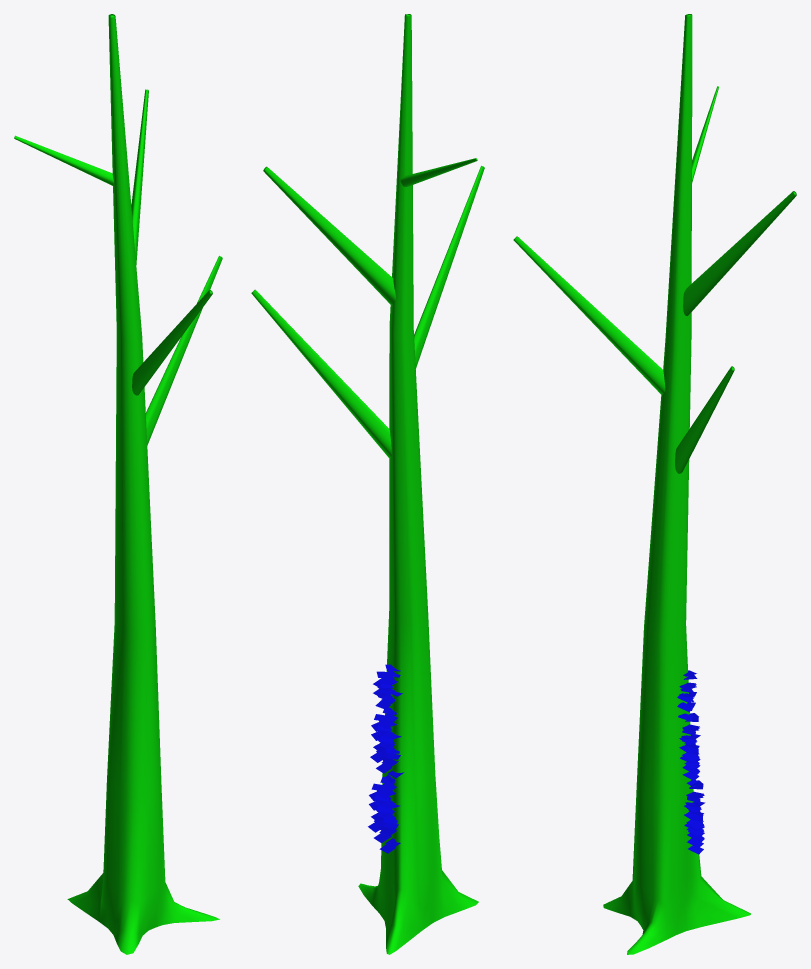
The model's file is tree_tall.fbx.
3 renders of one model, left to right at view 1: azimuth 30°, elevation 25°; view 2: azimuth 150°, elevation 25°; view 3: azimuth 270°, elevation 25°, orthographic.
Visible parts, largest first — view 1: polySurface12; view 2: polySurface12; view 3: polySurface12.
Boxes of the visible parts, x1=… form: polySurface12: x1=14, y1=14, x2=222, y2=954; polySurface12: x1=251, y1=14, x2=484, y2=954; polySurface12: x1=513, y1=14, x2=796, y2=954.
Size of the model in its own units: 913 by 3650 by 1036.
